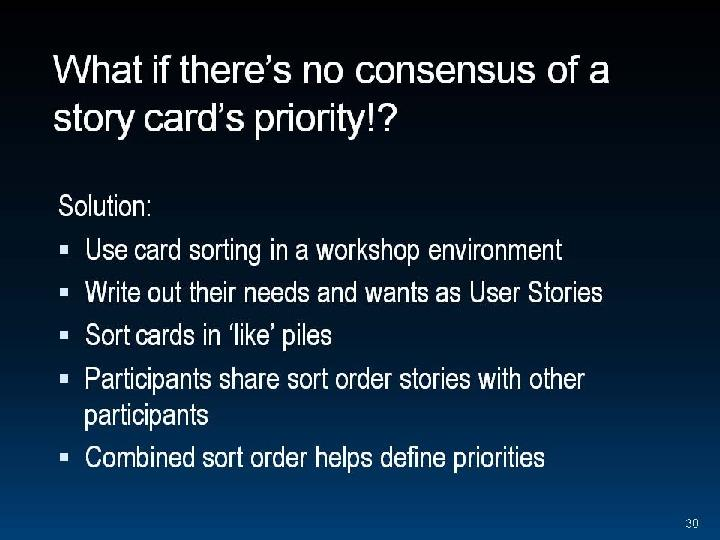paragraph: (38, 183, 626, 501)
title: (49, 31, 631, 152)
